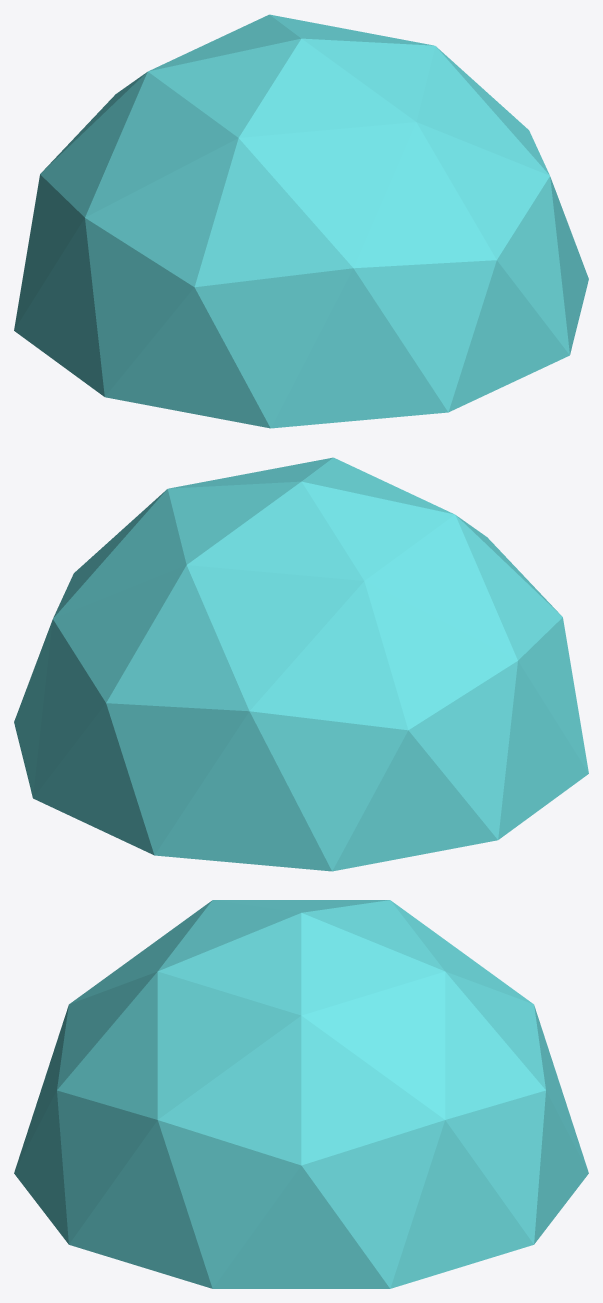
File: Shield.fbx
3 views of the same model, one above another, from view 1: azimuth 30°, elevation 25°; view 2: azimuth 150°, elevation 25°; view 3: azimuth 270°, elevation 25° (orthographic). The views are drawn at different scales.
Visible parts, largest first — view 1: Shield; view 2: Shield; view 3: Shield.
Part boxes in pixels (x1,y1,x2,y2): Shield: (14,14,588,428); Shield: (14,457,588,871); Shield: (14,900,588,1288).
Size of the model in its own units: 85.6 by 45 by 90.
